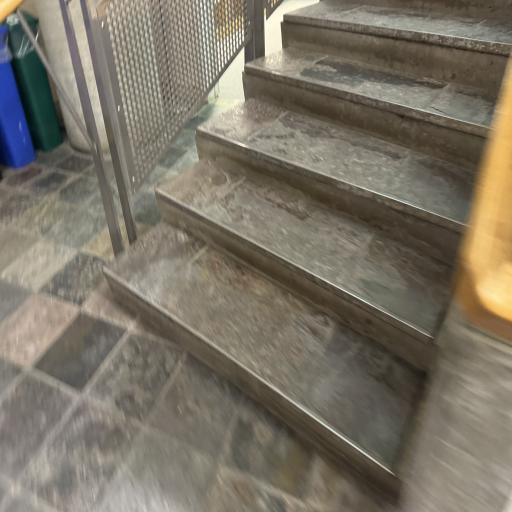Stairs: (105, 0, 512, 494), (104, 224, 424, 494), (155, 160, 451, 370), (196, 99, 474, 264), (244, 48, 496, 168), (282, 0, 512, 94)
